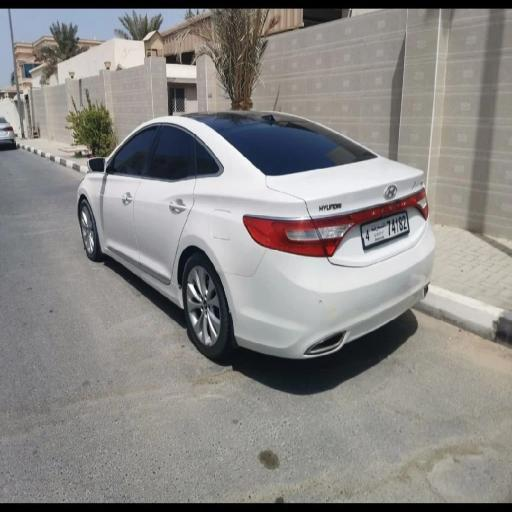license-plates: (362, 212, 409, 247)
